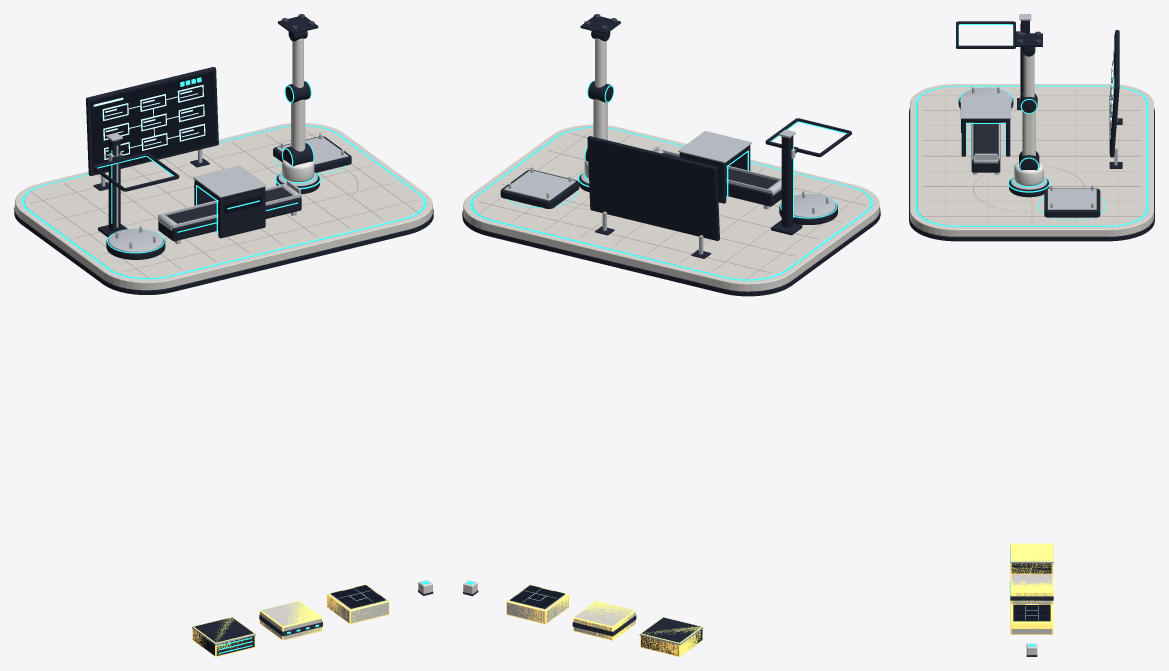
File: system-foundry.glb
The picture shows the model from 3 angles, left to right: view 1: azimuth 30°, elevation 25°; view 2: azimuth 150°, elevation 25°; view 3: azimuth 270°, elevation 25°; orthographic projection. The views are drawn at different scales.
Parts seen in each view (by area): view 1: Floor inner, Floor, Wall glass, Floor skirt, Floor light, Wall frame, Data body, Tunnel front, Tunnel cap, Conveyor body, API body, Intake plate (+8 smaller); view 2: Floor inner, Wall frame, Floor, Floor skirt, Floor light, Tunnel cap, Data body, Fixture plate, API body, Cutter column, API raw block, Data raw block (+6 smaller); view 3: Floor inner, Floor, Floor skirt, Floor light, Data raw block, Tunnel cap, Fixture plate, API raw block, Conveyor belt, API body, Fixture body, Wall frame (+7 smaller).
Part boxes in pixels (<box>): Floor inner: <box>24,126,423,277</box>; Floor: <box>15,123,432,290</box>; Wall glass: <box>90,71,216,173</box>; Floor skirt: <box>14,206,433,294</box>; Floor light: <box>21,125,426,279</box>; Wall frame: <box>86,67,218,175</box>; Data body: <box>192,617,254,655</box>; Tunnel front: <box>218,190,265,238</box>; Tunnel cap: <box>193,165,266,197</box>; Conveyor body: <box>158,197,301,241</box>; API body: <box>260,601,321,639</box>; Intake plate: <box>108,228,162,252</box>; Floor inner: <box>472,128,870,279</box>; Wall frame: <box>587,136,719,240</box>; Floor: <box>463,124,879,291</box>; Floor skirt: <box>462,208,880,296</box>; Floor light: <box>470,127,872,280</box>; Tunnel cap: <box>678,131,751,163</box>; Data body: <box>641,617,702,655</box>; Fixture plate: <box>504,170,575,200</box>; API body: <box>574,602,635,639</box>; Cutter column: <box>781,136,793,227</box>; API raw block: <box>573,601,635,640</box>; Data raw block: <box>640,617,702,656</box>; Floor inner: <box>917,86,1146,225</box>; Floor: <box>910,84,1153,236</box>; Floor skirt: <box>909,108,1154,241</box>; Floor light: <box>915,85,1148,226</box>; Data raw block: <box>1010,543,1053,574</box>; Tunnel cap: <box>960,96,1011,118</box>; Fixture plate: <box>1047,188,1096,209</box>; API raw block: <box>1010,574,1053,604</box>; Conveyor belt: <box>974,122,997,155</box>; API body: <box>1011,574,1052,603</box>; Fixture body: <box>1044,188,1100,217</box>; Wall frame: <box>1110,30,1119,157</box>.
Size of the model in its own units: 27.42 by 43.14 by 17.1.
